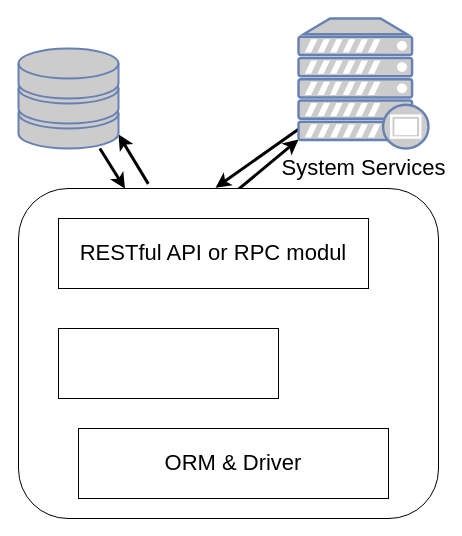
Some shapes in this 462 by 536 pixel diagram are drawn without their labels. Each missing label, with the box of its shape:
Controller: (58, 328, 278, 398)
redis: (17, 47, 119, 149)
